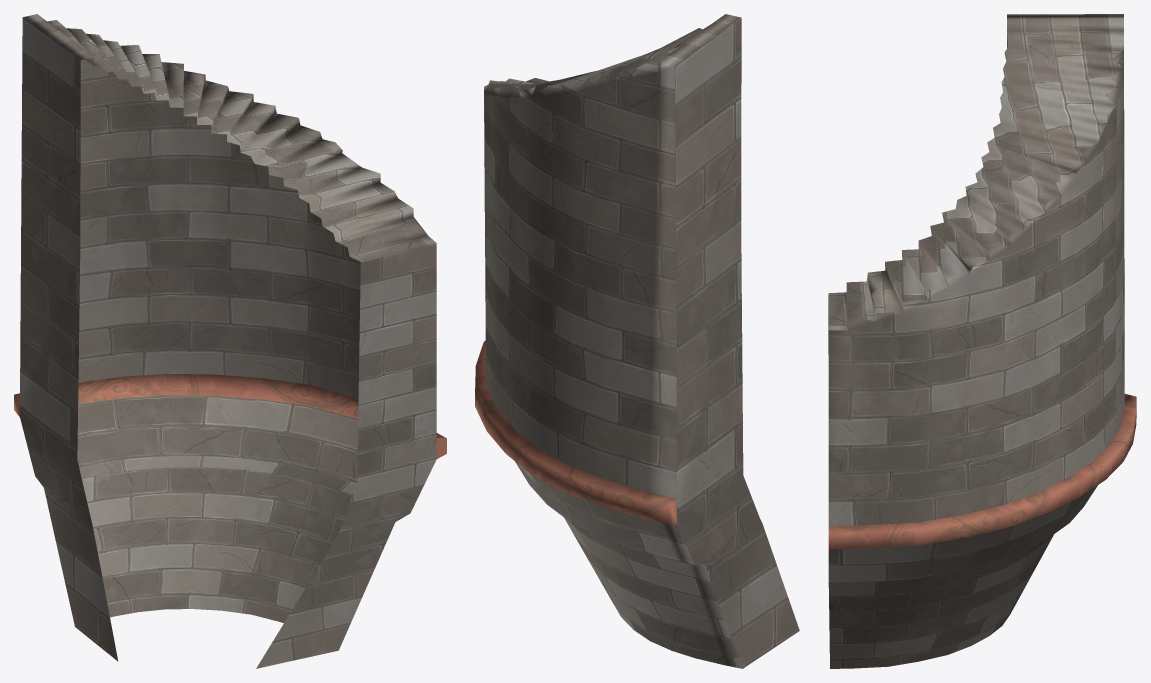
File: stairs_outer_curved.fbx
3 views of the same model, side by side, from view 1: azimuth 30°, elevation 25°; view 2: azimuth 150°, elevation 25°; view 3: azimuth 270°, elevation 25° (orthographic). The views are drawn at different scales.
Parts seen in each view (by area): view 1: spiral_stairs_outer_1:polySurface1, spiral_stairs_outer_1:polySurface2; view 2: spiral_stairs_outer_1:polySurface1, spiral_stairs_outer_1:polySurface2; view 3: spiral_stairs_outer_1:polySurface1, spiral_stairs_outer_1:polySurface2.
Boxes of the visible parts, box(x1,y1,x2,y2) form: spiral_stairs_outer_1:polySurface1: box(20, 14, 436, 668); spiral_stairs_outer_1:polySurface2: box(14, 374, 446, 458); spiral_stairs_outer_1:polySurface1: box(484, 14, 799, 668); spiral_stairs_outer_1:polySurface2: box(475, 340, 676, 524); spiral_stairs_outer_1:polySurface1: box(828, 14, 1124, 668); spiral_stairs_outer_1:polySurface2: box(828, 393, 1136, 549).
Bounding box in the file's own units: 7.63 × 14.56 × 7.12.
